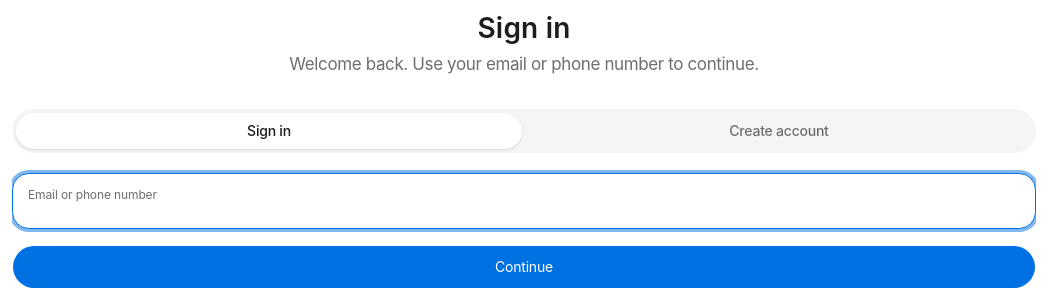
Test: SignInFlow: signing up › switches between the two tabs, with the arrow keys too
The width and height of the screenshot is (1048, 305).
Click the tab "Create account" at (779, 131), box top-left (526, 113), bottom-right (1032, 149)
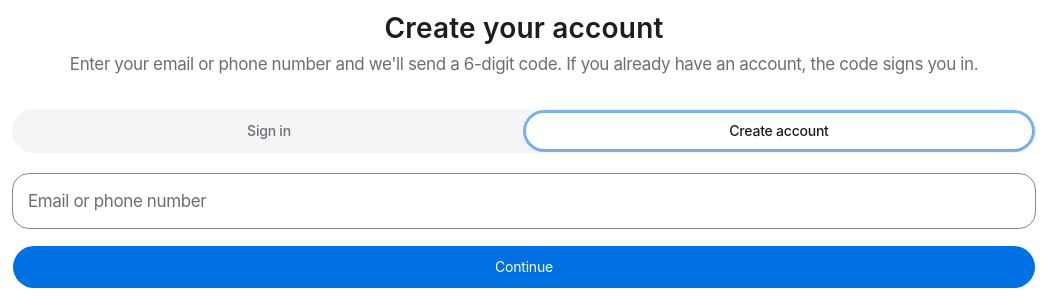
Expected: the heading "Create your account" is shown, top-left (384, 11), bottom-right (664, 45)
Press Arrowleft
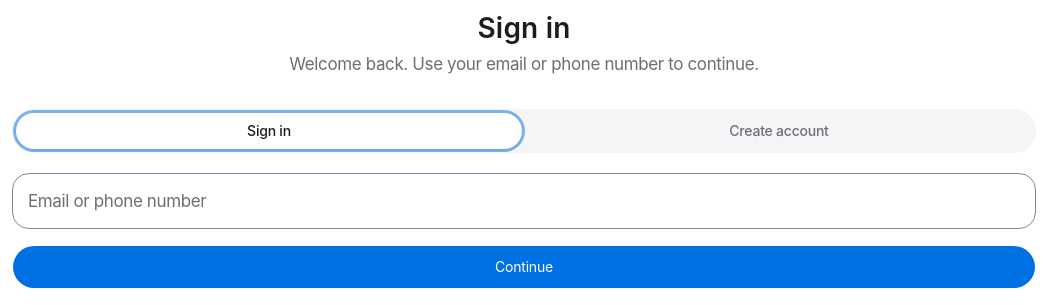
Expected: the heading "Sign in" is shown, top-left (478, 11), bottom-right (571, 45)
